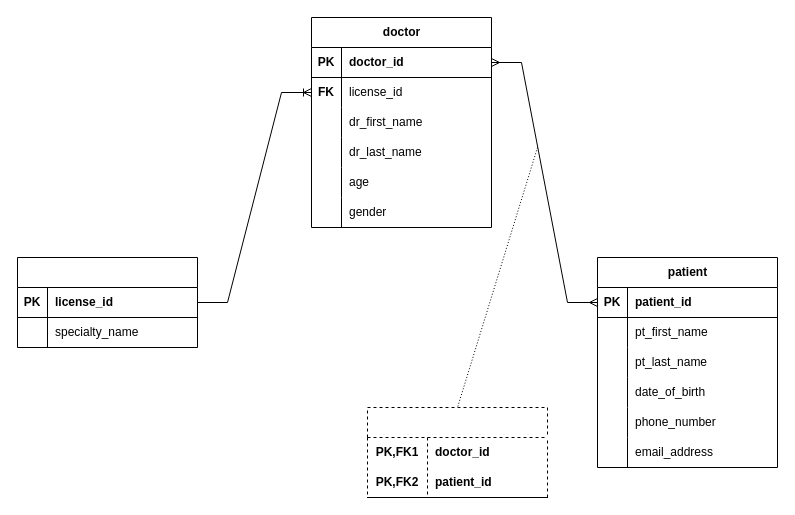
Some shapes in this 795 by 515 pixel diagram are drawn without their labels. Here are the shapes that lost their labels. From the top down, the box of each, then its label:
(16, 256, 198, 348): Specialties
(366, 406, 548, 498): doctor_patient
